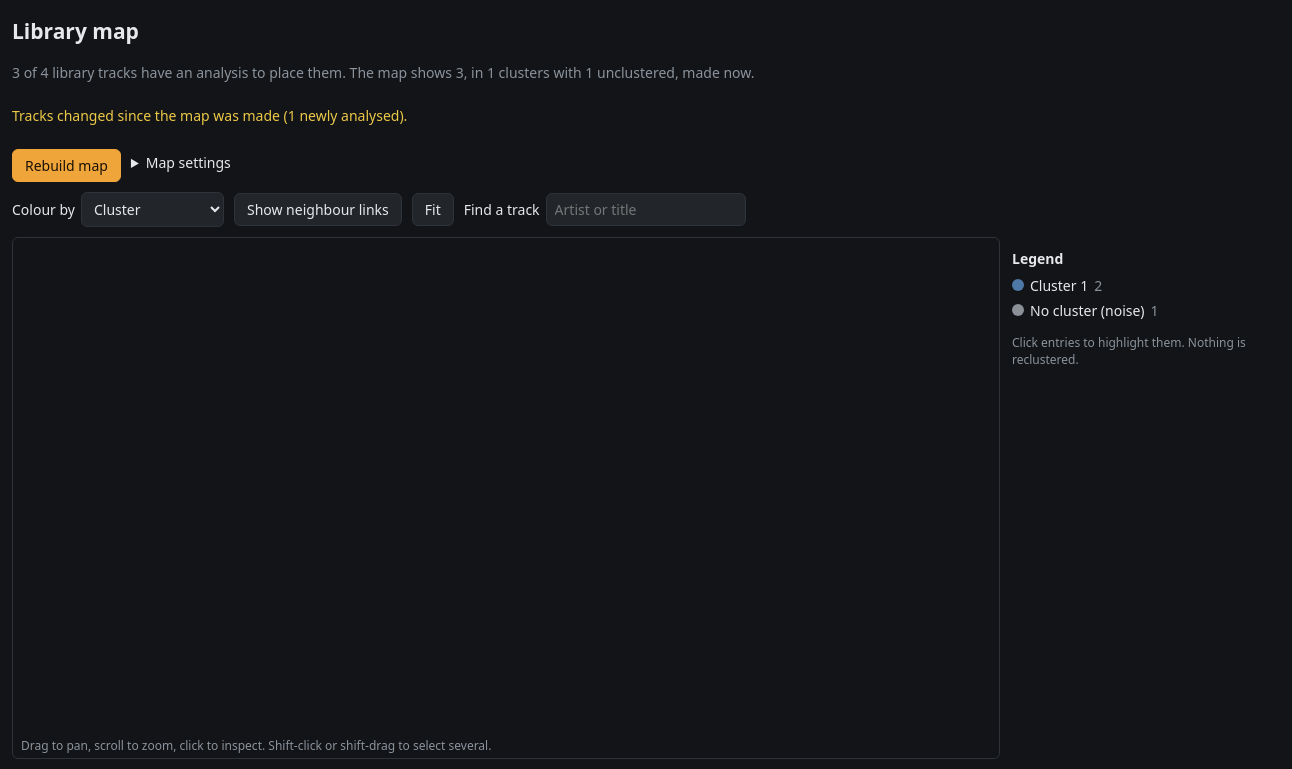
Scenario: reports coverage, staleness and noise, and inspects a track found by search
Expected: the text "3 of 4 library tracks" is shown, [12,63,350,82]
Expected: the text "Tracks changed since the map was made (1 newly analysed)." is shown, [12,106,407,125]
Step 1. Type "title t1" into the search field labelled "Find a track" → x=646, y=209, box [546,193,746,226]
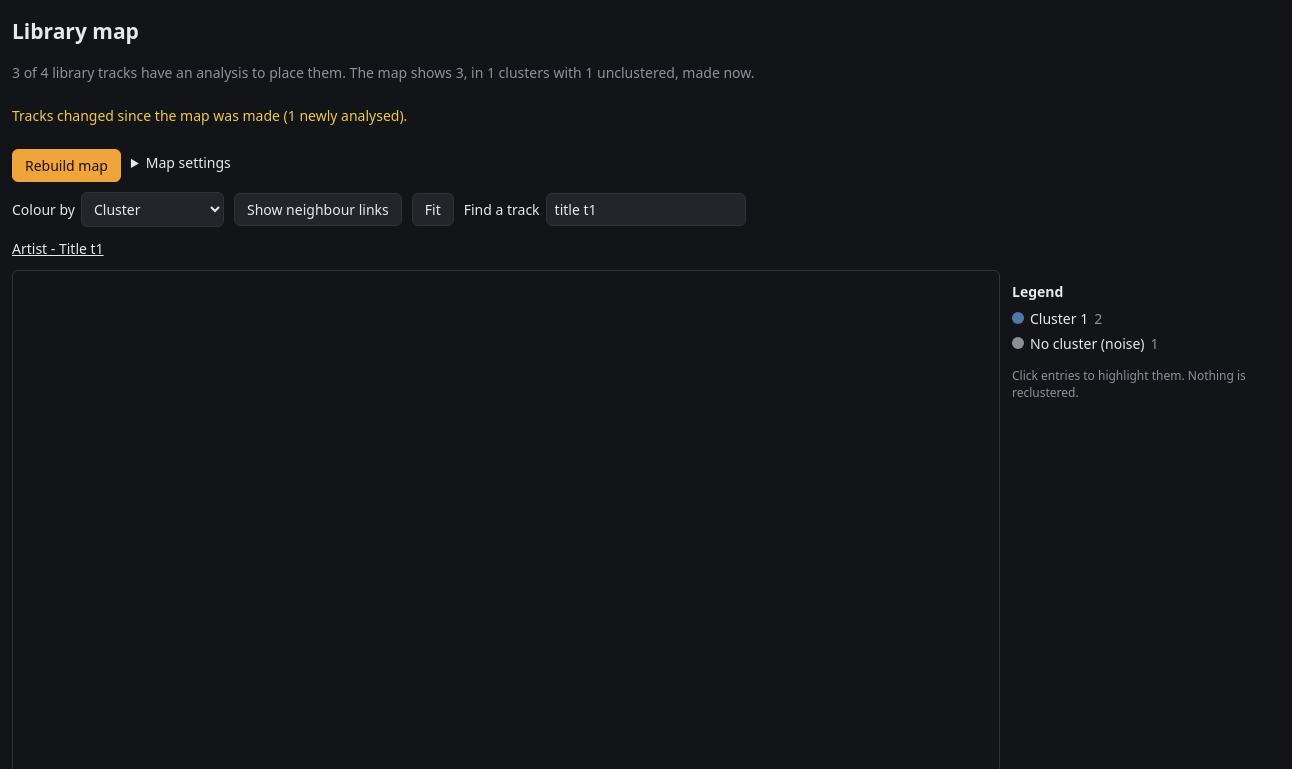
Step 2. Click the button "Artist - Title t1" → x=58, y=248, box [12,237,104,260]
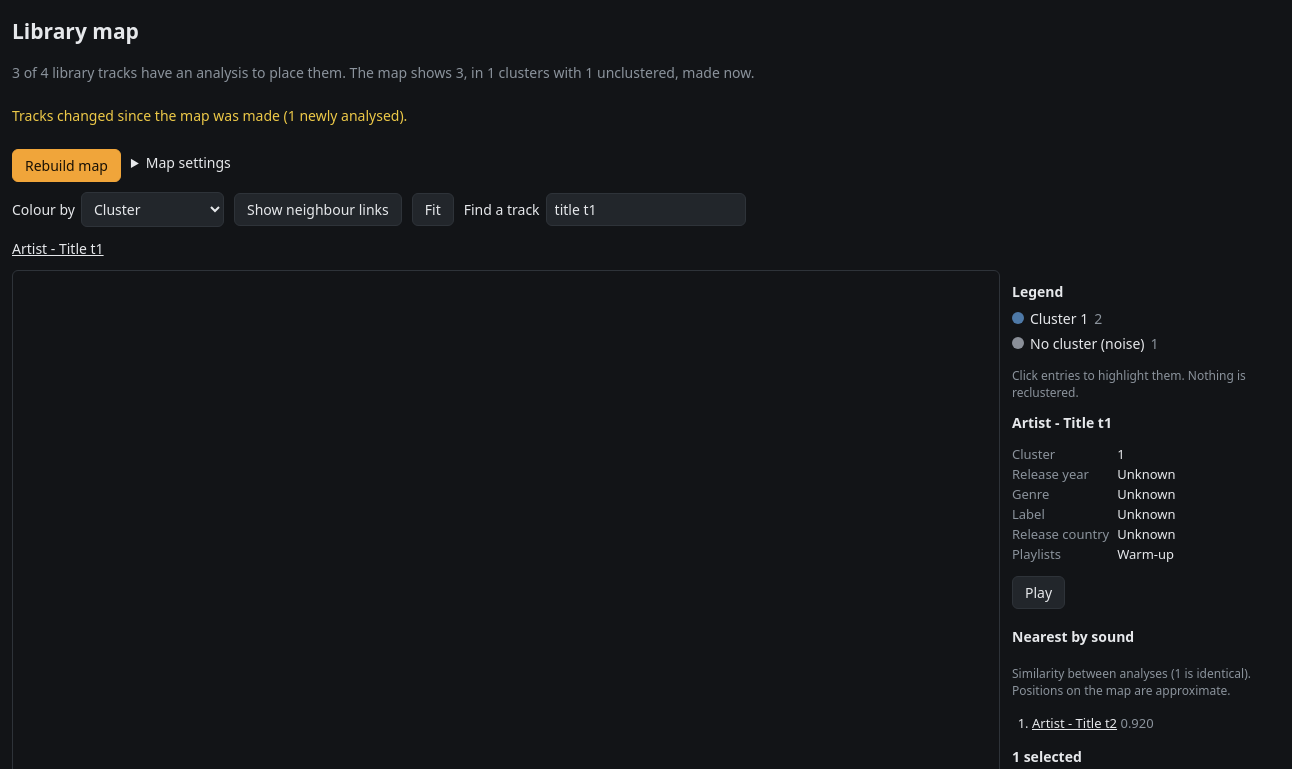
Expected: the text "0.920" is shown, [1120,714,1154,732]
Expected: the text "Warm-up" is shown, [1117,545,1174,563]
